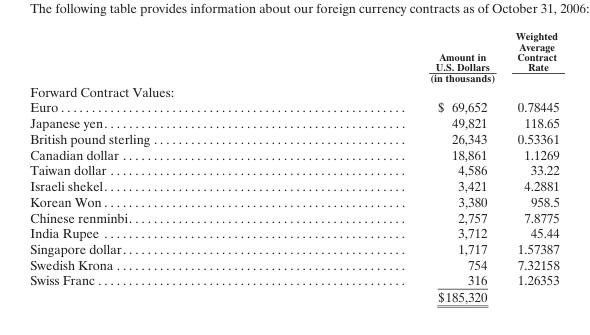table: (29, 29, 559, 304)
table column: (29, 29, 289, 304), (289, 29, 504, 304), (504, 29, 559, 304)
table column header: (29, 29, 559, 83)
table projected row header: (29, 83, 559, 98)
table row: (29, 29, 559, 83), (29, 271, 559, 288), (29, 98, 559, 114), (29, 114, 559, 130), (29, 130, 559, 146), (29, 161, 559, 177), (29, 177, 559, 193), (29, 193, 559, 209), (29, 224, 559, 240), (29, 240, 559, 256), (29, 288, 559, 304), (29, 83, 559, 98), (29, 146, 559, 161), (29, 209, 559, 224), (29, 256, 559, 271)
